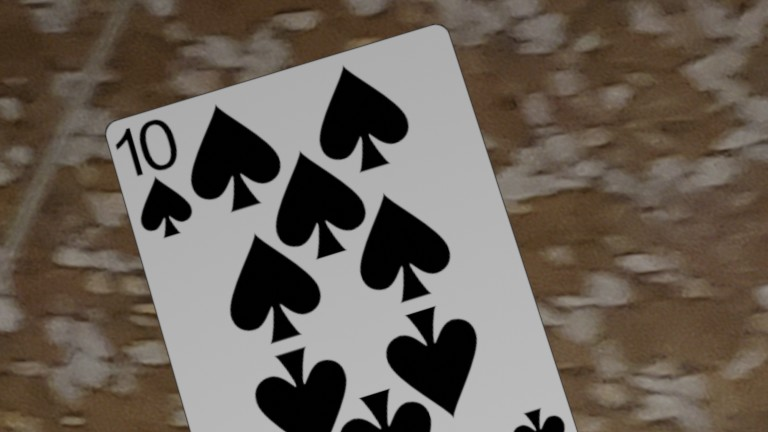10_of_spades: (109, 113, 206, 247), (498, 398, 602, 432)
